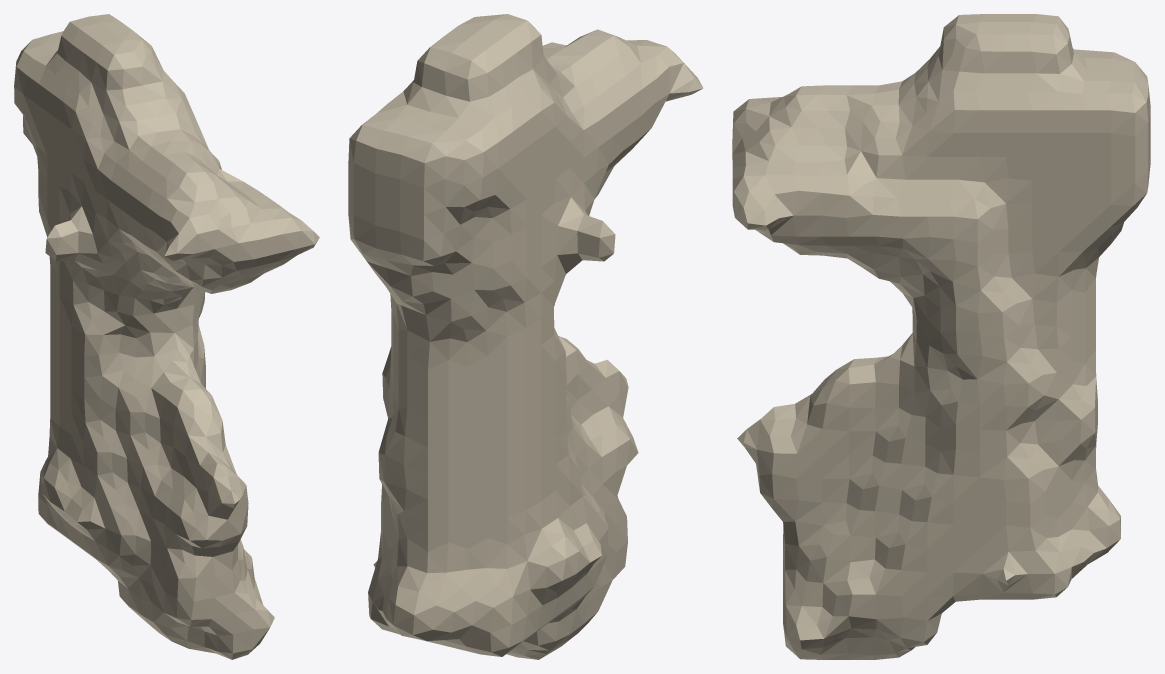
File: aseg_014_3rd-Ventricle.glb
The picture shows the model from 3 angles, left to right: view 1: azimuth 30°, elevation 25°; view 2: azimuth 150°, elevation 25°; view 3: azimuth 270°, elevation 25°; orthographic projection. The views are drawn at different scales.
Bounding box in the file's own units: 8.6 × 26 × 15.93.
